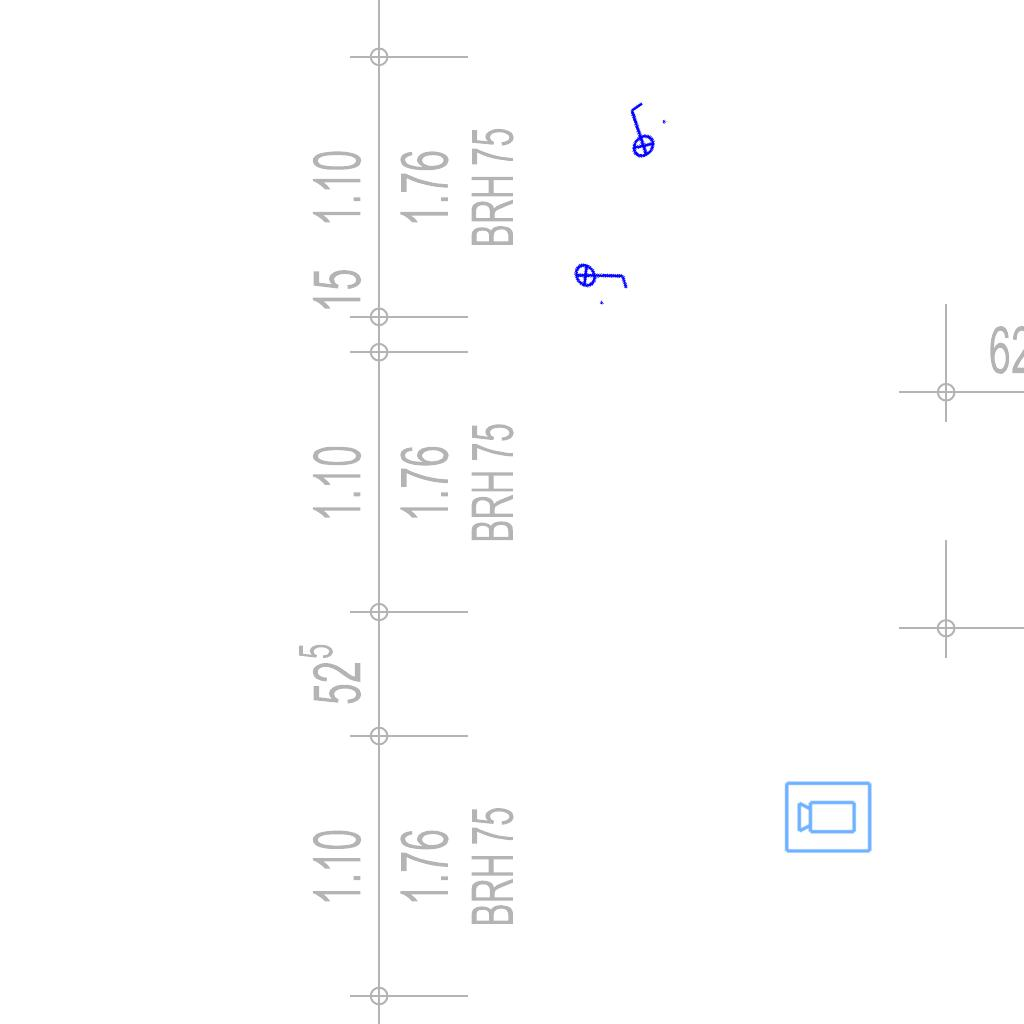Ausschalter_beleuchtet: (602, 94, 676, 168), (566, 239, 636, 313)
KFO_Kamera_mit_Festobjektiv: (783, 778, 874, 855)
